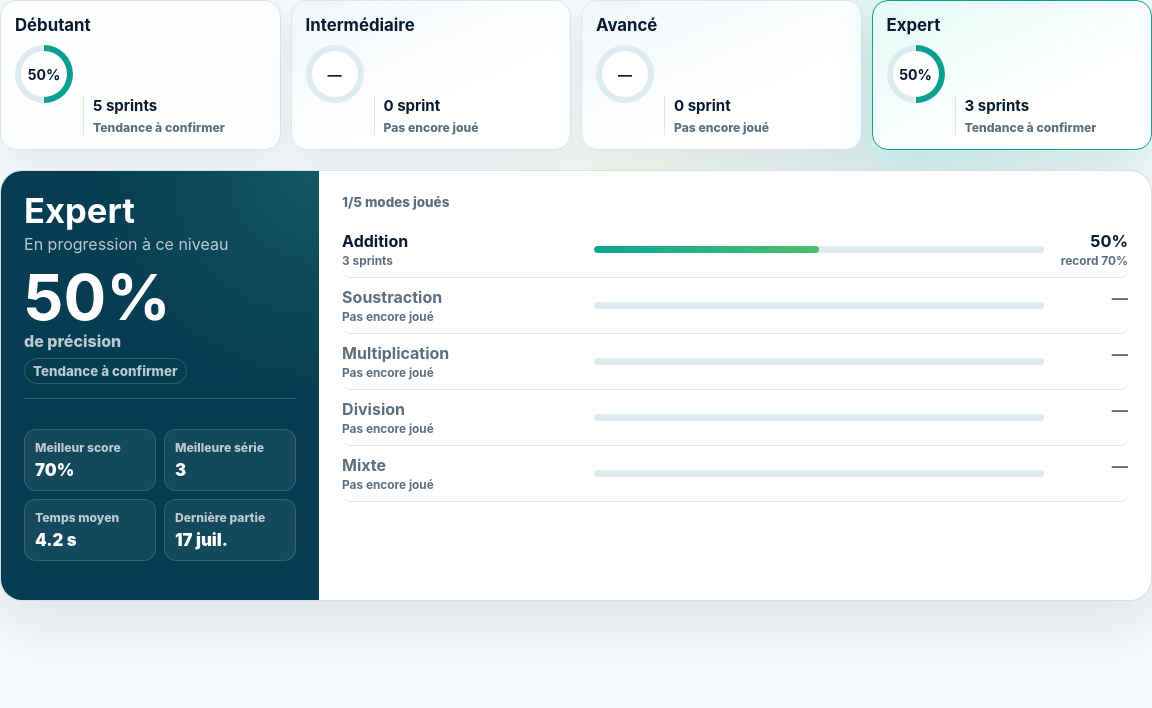
Test: sections du profil ami › ouvre le graphique de l'historique public sans proposer de jouer à la place de l'ami
The image size is (1152, 708).
Step 1. Click the button "Addition 3 sprints 50% record 70%" → (735, 250), box [342,222,1128,278]
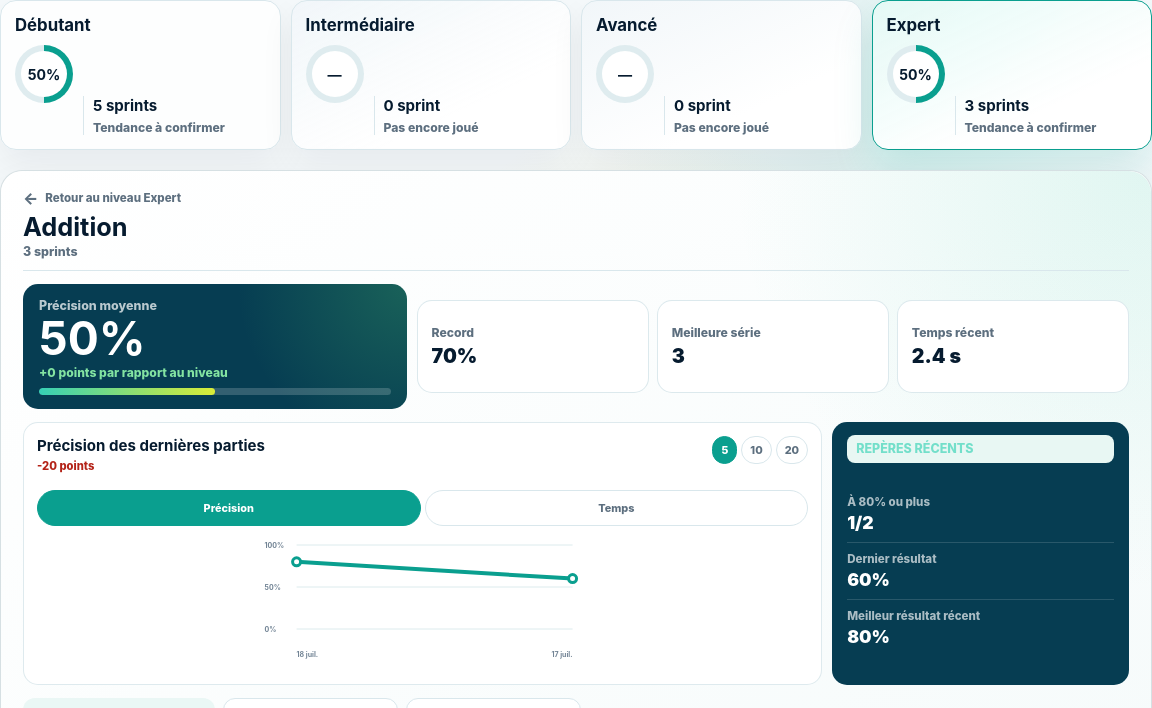
Now the picture named "Évolution de la précision sur 2 parties" is shown, box [37,535,808,663]
